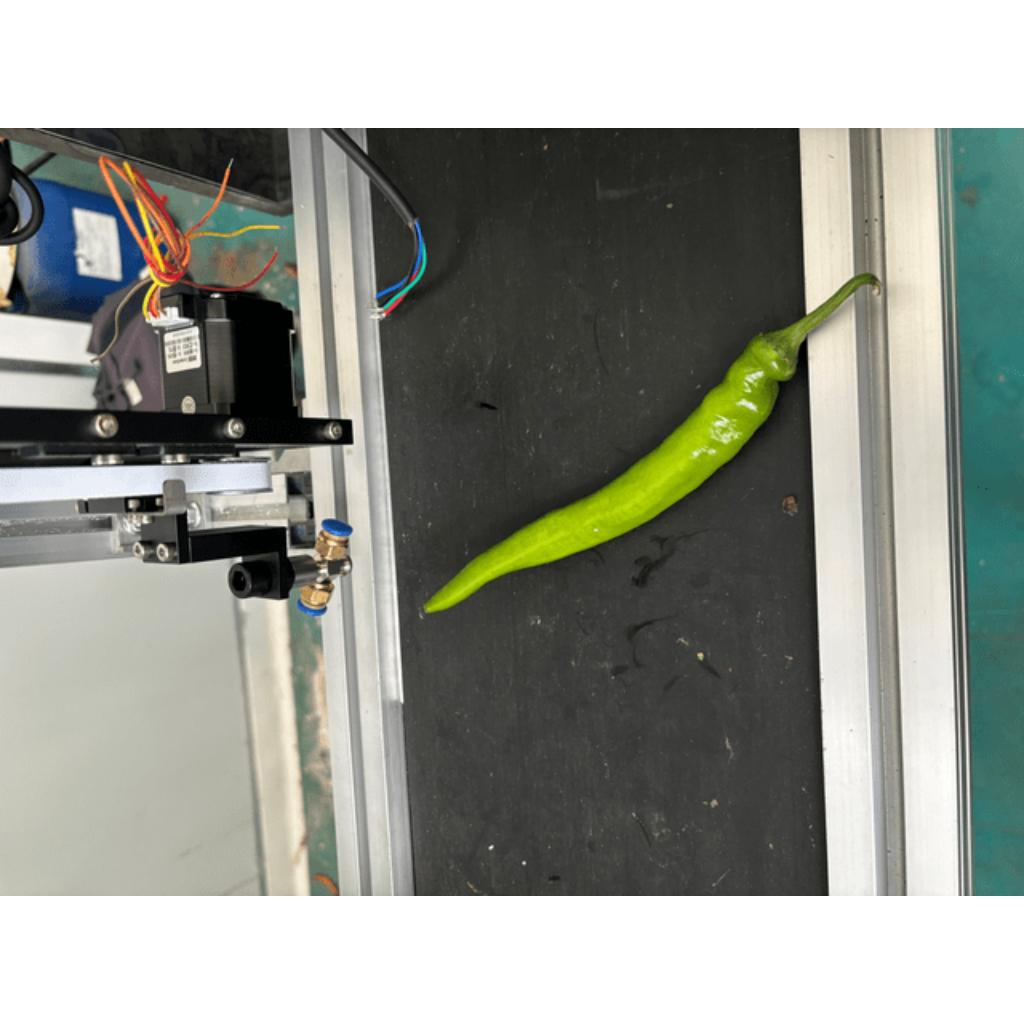chili: (421, 331, 802, 619)
